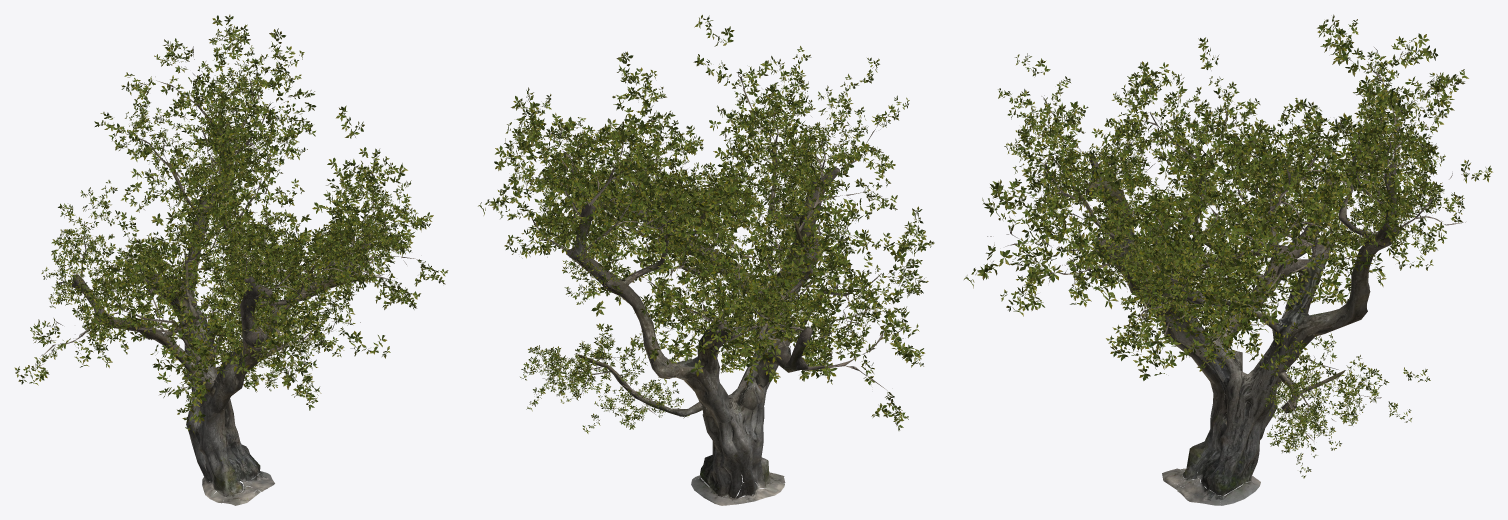
The model's file is street-tree-island-v205.glb.
The picture shows the model from 3 angles, left to right: view 1: azimuth 30°, elevation 25°; view 2: azimuth 150°, elevation 25°; view 3: azimuth 270°, elevation 25°; orthographic projection. The views are drawn at different scales.
Parts seen in each view (by area): view 1: island_tree_01_LOD0; view 2: island_tree_01_LOD0; view 3: island_tree_01_LOD0.
Part boxes in pixels (left/top/right/bottom): island_tree_01_LOD0: left=14, top=14, right=448, bottom=505; island_tree_01_LOD0: left=478, top=15, right=934, bottom=505; island_tree_01_LOD0: left=964, top=14, right=1492, bottom=505.
Bounding box in the file's own units: 4.76 × 5.03 × 4.82.
Materials: 3 (3 with a texture image).
